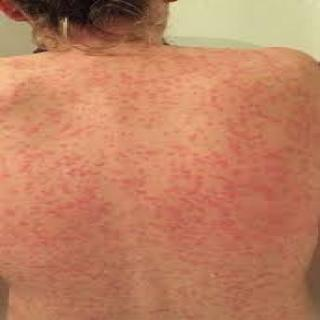urticaria: (28, 96, 267, 284)
